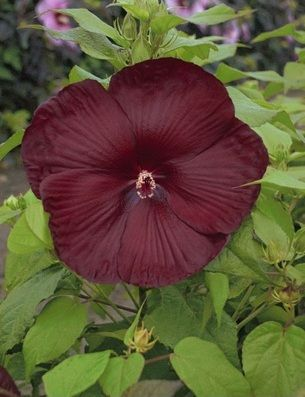Hibiscus: (25, 60, 272, 292)
